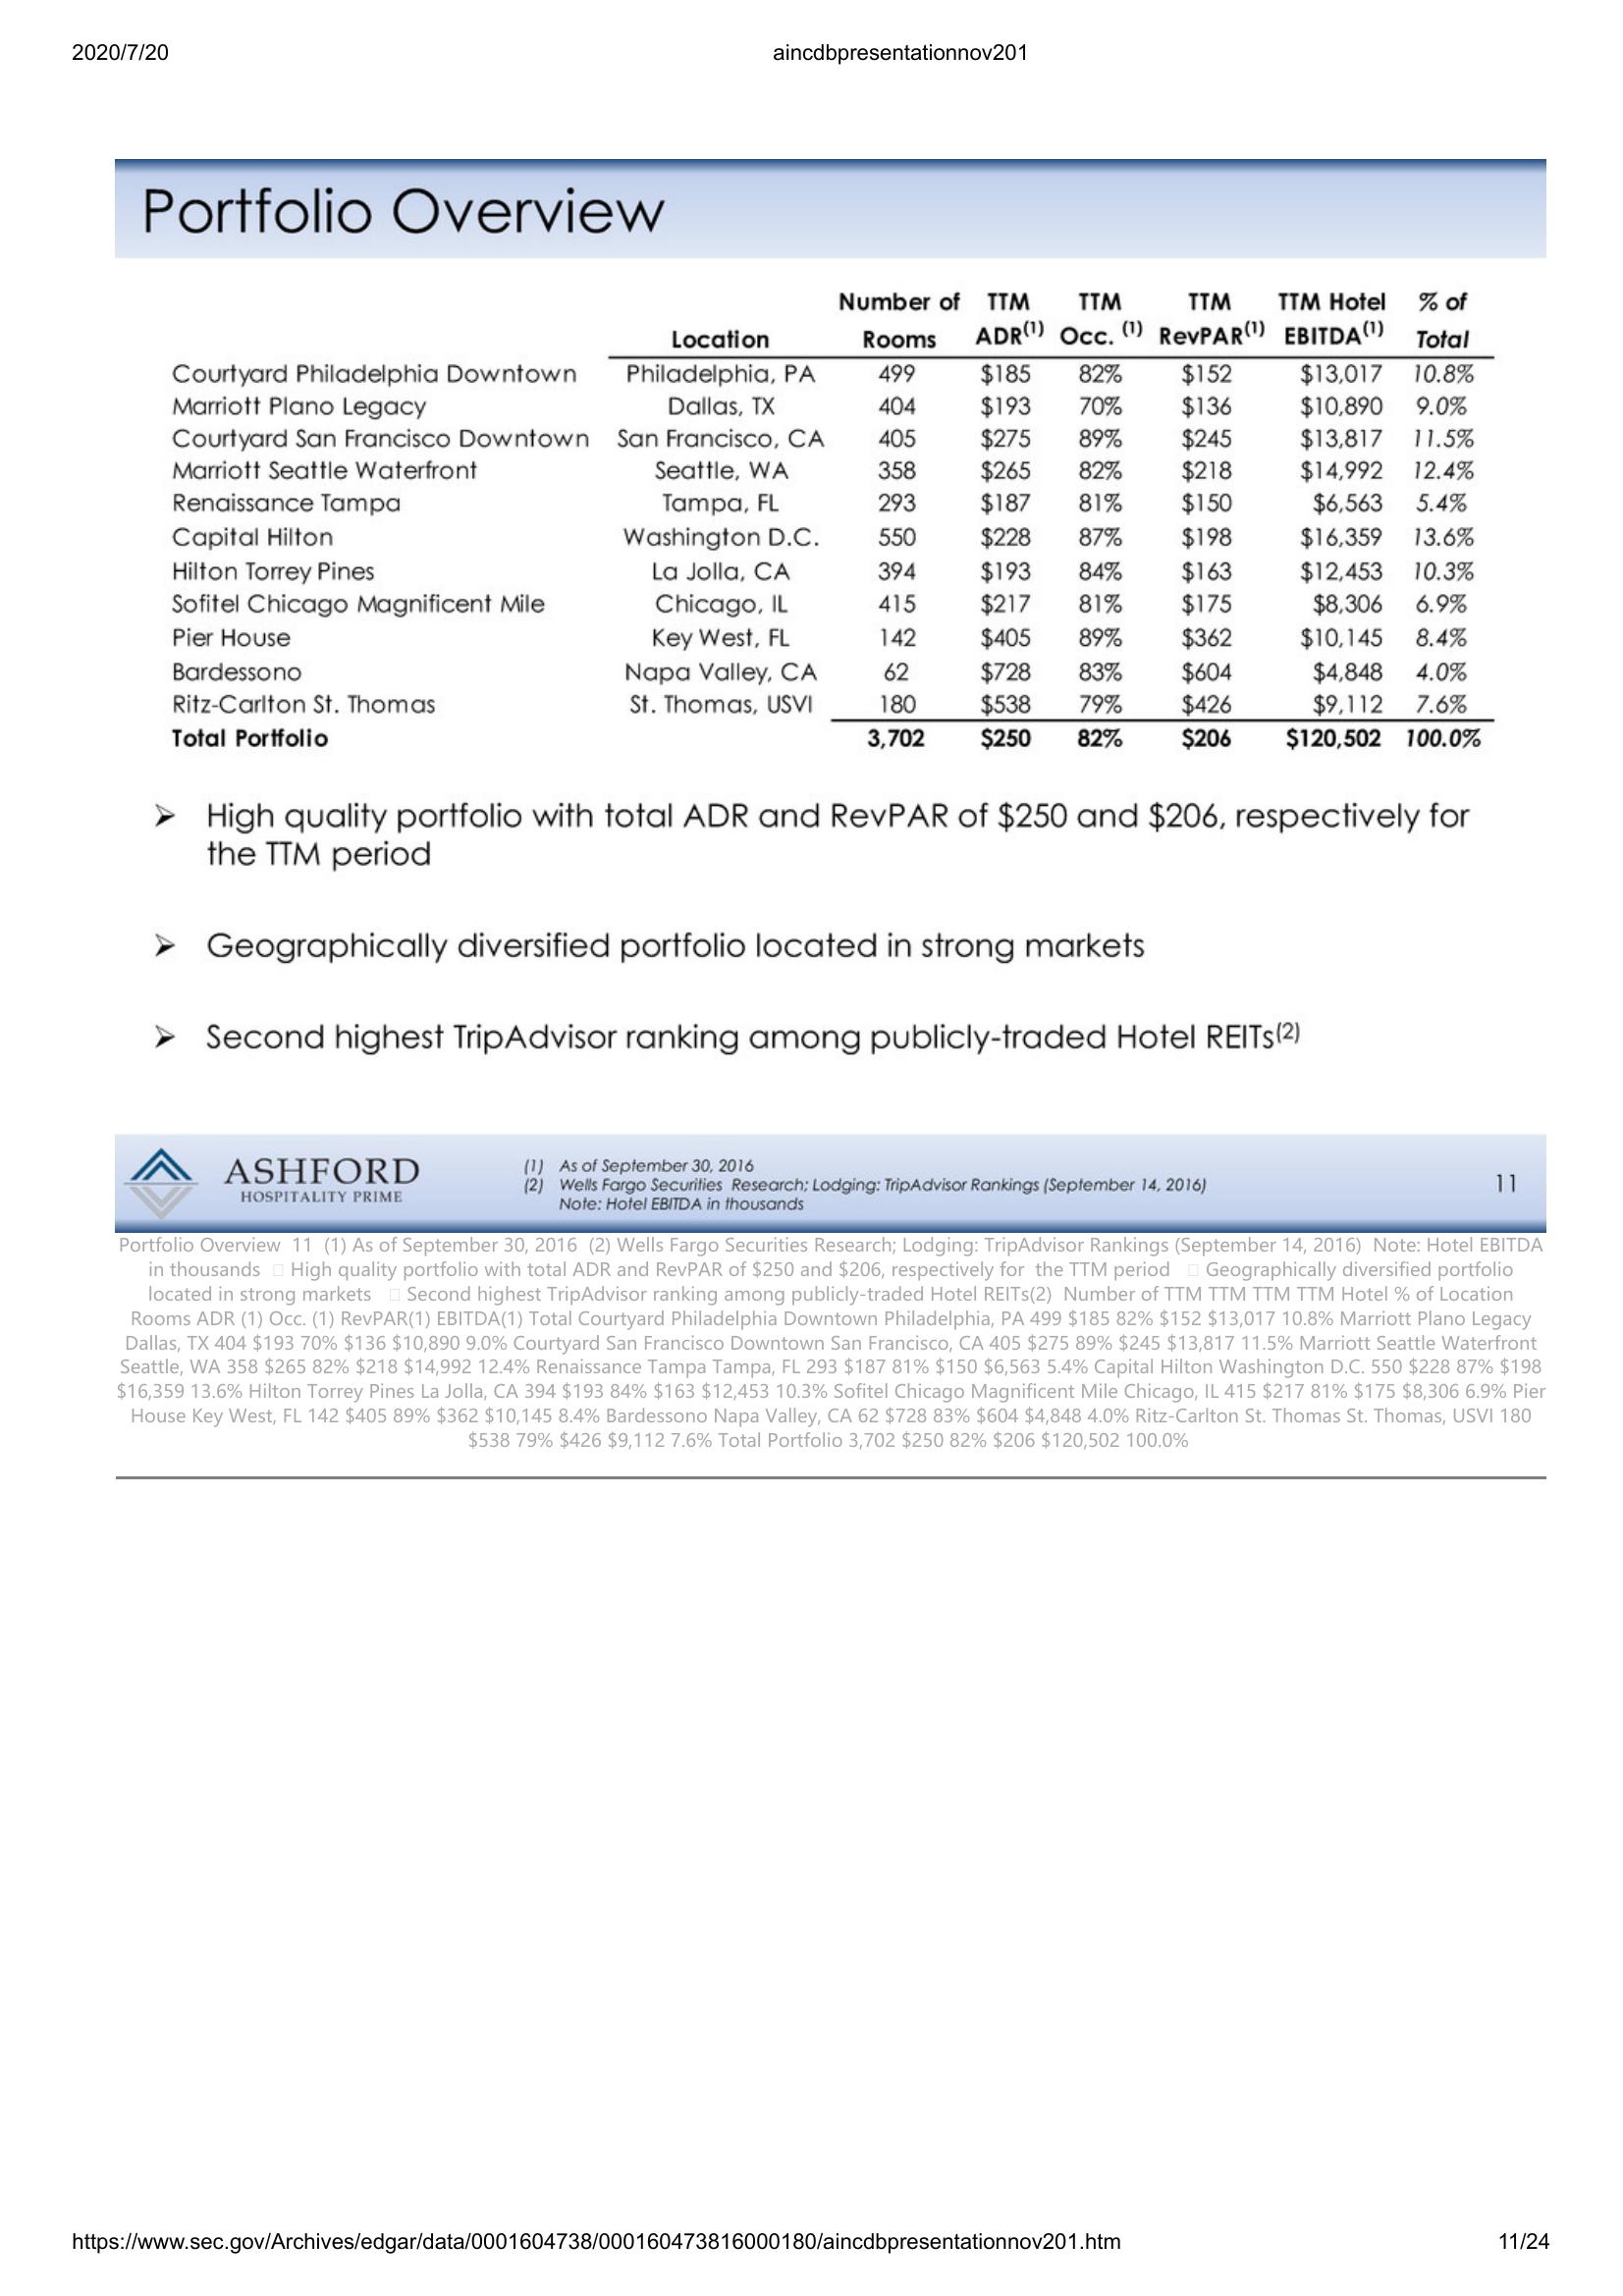table: (160, 283, 1509, 765)
